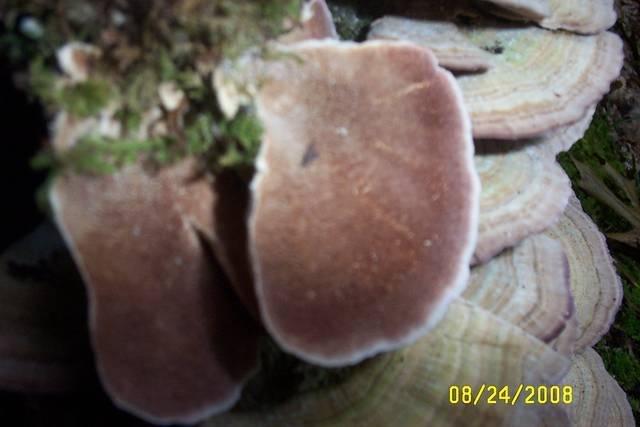poisonous_mushroom: (31, 6, 631, 427), (214, 10, 483, 367)
